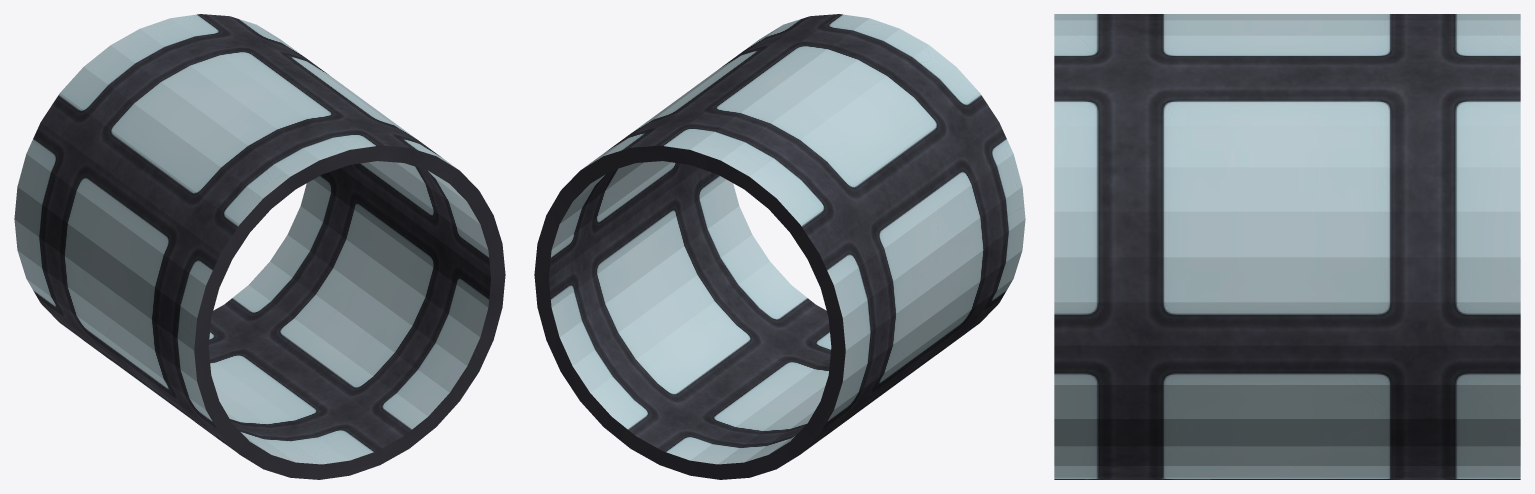
Rendered from Magnetizer.fbx.
The picture shows the model from 3 angles, left to right: view 1: azimuth 30°, elevation 25°; view 2: azimuth 150°, elevation 25°; view 3: azimuth 270°, elevation 25°; orthographic projection. The views are drawn at different scales.
Parts seen in each view (by area): view 1: Cylinder; view 2: Cylinder; view 3: Cylinder.
Part boxes in pixels (<box>): Cylinder: <box>14,14,505,479</box>; Cylinder: <box>534,14,1025,479</box>; Cylinder: <box>1054,14,1520,479</box>.
Size of the model in its own units: 200 by 200 by 200.
